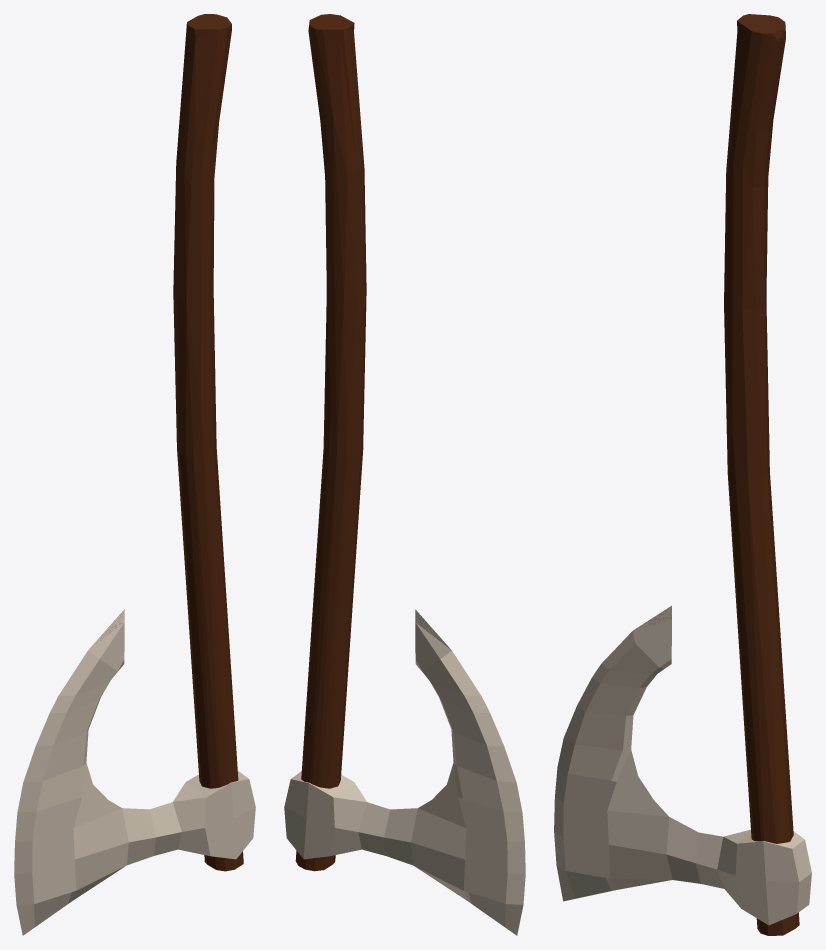
File: axe1.fbx
3 renders of one model, left to right at view 1: azimuth 30°, elevation 25°; view 2: azimuth 150°, elevation 25°; view 3: azimuth 330°, elevation 25°, orthographic. The views are drawn at different scales.
Parts seen in each view (by area): view 1: axe1; view 2: axe1; view 3: axe1.
Boxes of the visible parts, x1,y1,x2,y2 form: axe1: (14, 14, 255, 935); axe1: (284, 14, 525, 935); axe1: (554, 14, 811, 935).
Size of the model in its own units: 55.72 by 196 by 8.54.
